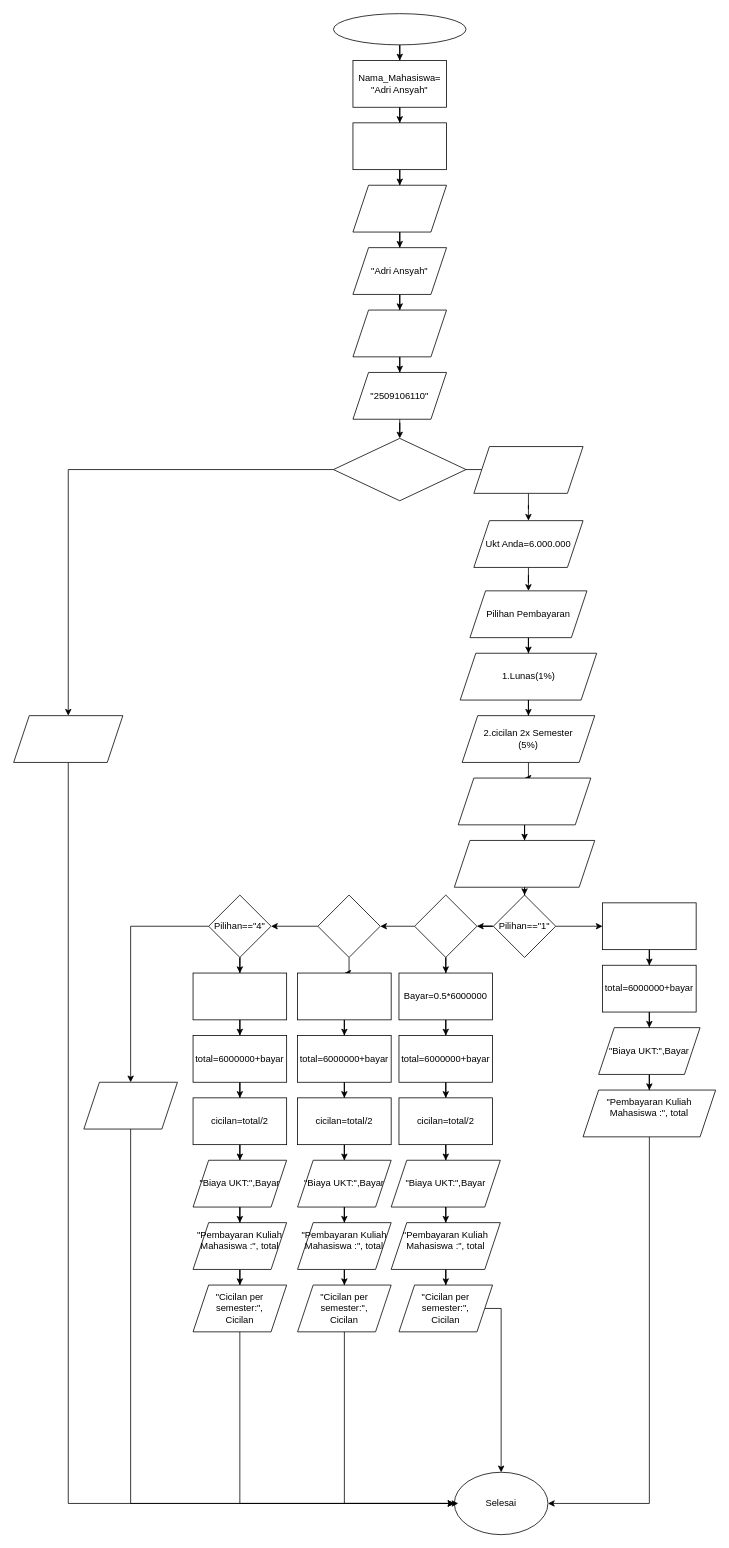
The diagram is 729 pixels wide and 1548 high, and some of its shapes have lost their labels. The shapes that lost their labels are listed below. From the top down, each one's centre as x and y in pixels, then its label:
the point at 399,29: mulai
the point at 399,146: NIMMahasiswa= "2509106110"
the point at 399,208: Masukan Nama
the point at 399,333: Masukan Nim
the point at 399,469: nama = NamaMahasiswa == nim = NIMMahasiswa
the point at 528,469: Login Telah Berhasil
the point at 68,738: "Login gagal! Nim dan Nama salah"
the point at 524,801: 3.cicilan 4x Semester (8%)
the point at 524,863: 4.cicilan 6x Semester (12%)
the point at 348,925: Pilihan=="3"
the point at 445,925: Pilihan=="2"
the point at 649,926: Bayar=0.1*6000000
the point at 239,996: Bayar=0.12*6000000
the point at 344,996: Bayar=0.8*6000000
the point at 130,1105: "Pilihan Tidak Valid"
